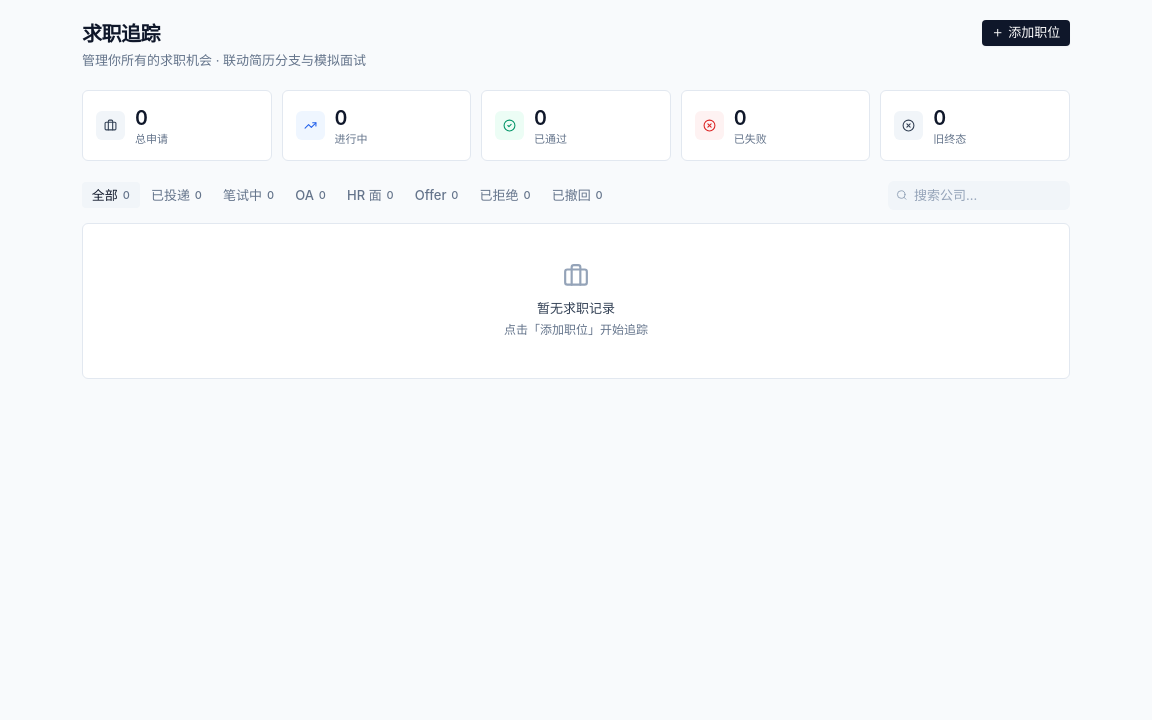
Test: Jobs create modal — headcount HTML constraints (020 D-017) › opens the create modal when the 添加职位 button is clicked
Click the button "添加职位" at coordinates (1026, 32), box 982,20 -> 1070,46
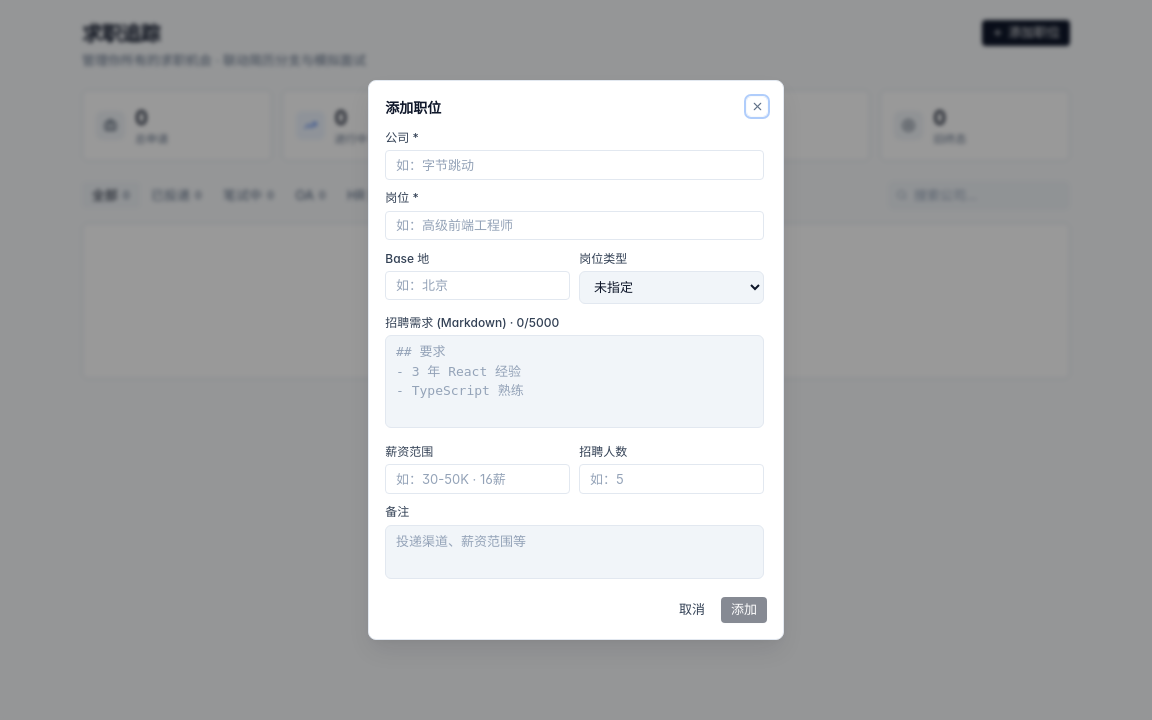
Check: the number field with test id "job-create-headcount" is shown, box 579,464 -> 764,494
